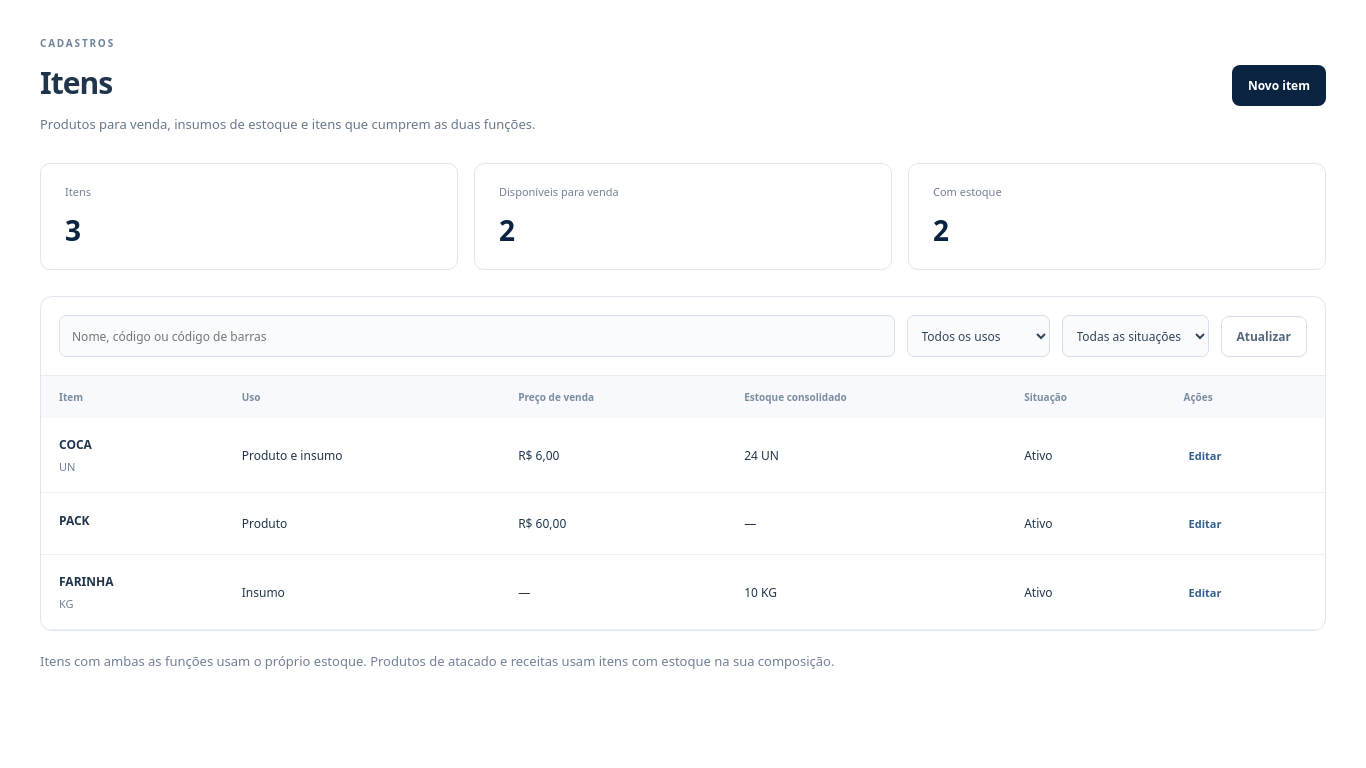
Test: shows one entry for a combined item and filters the three uses
Expected: the text "COCA" is shown, [59, 436, 92, 453]
Expected: the text "24 UN" is shown, [726, 418, 1006, 493]
Select "Produto e insumo" in the dropdown named "Filtrar uso do item": (978, 336) [906, 315, 1050, 357]
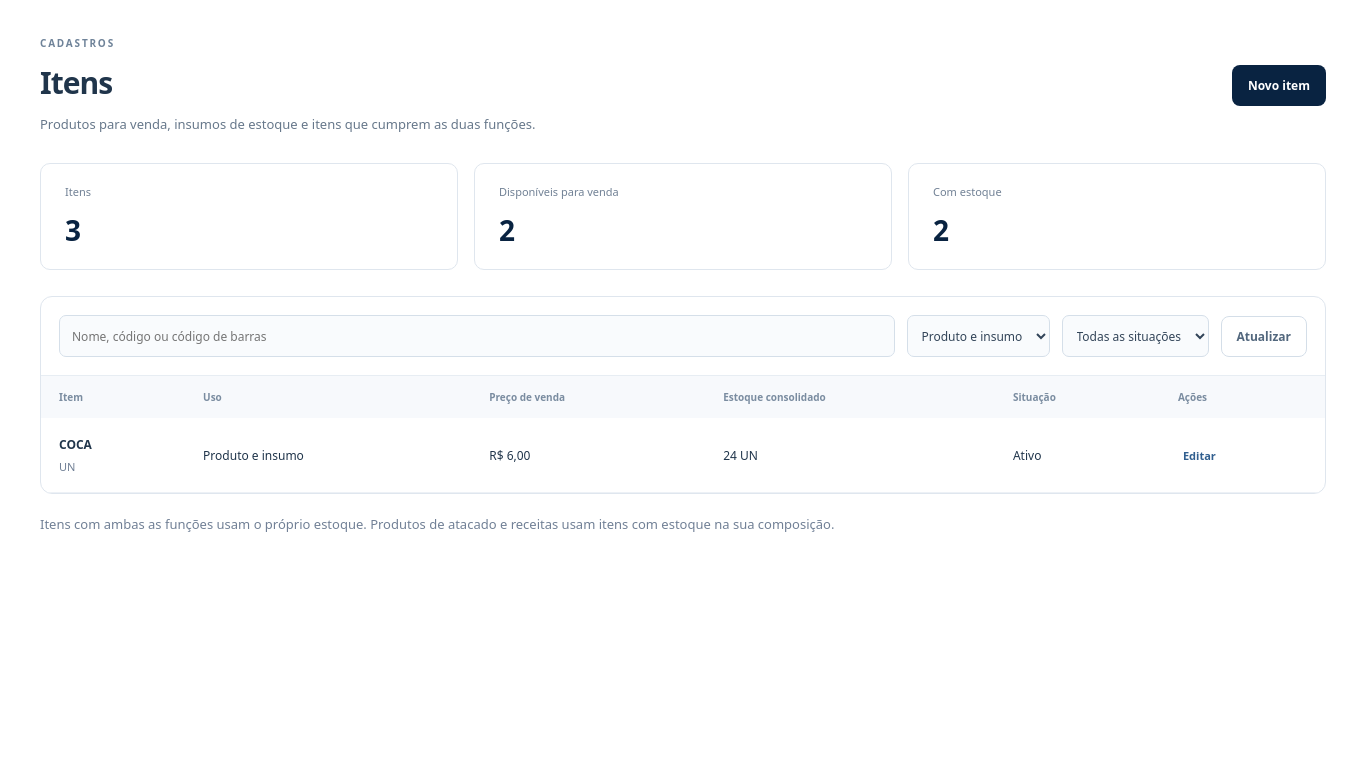
Expected: the text "COCA" is shown, [59, 436, 92, 453]
Expected: the text "PACK" is gone
Select "Apenas insumo" in the dropdown named "Filtrar uso do item": (978, 336) [906, 315, 1050, 357]
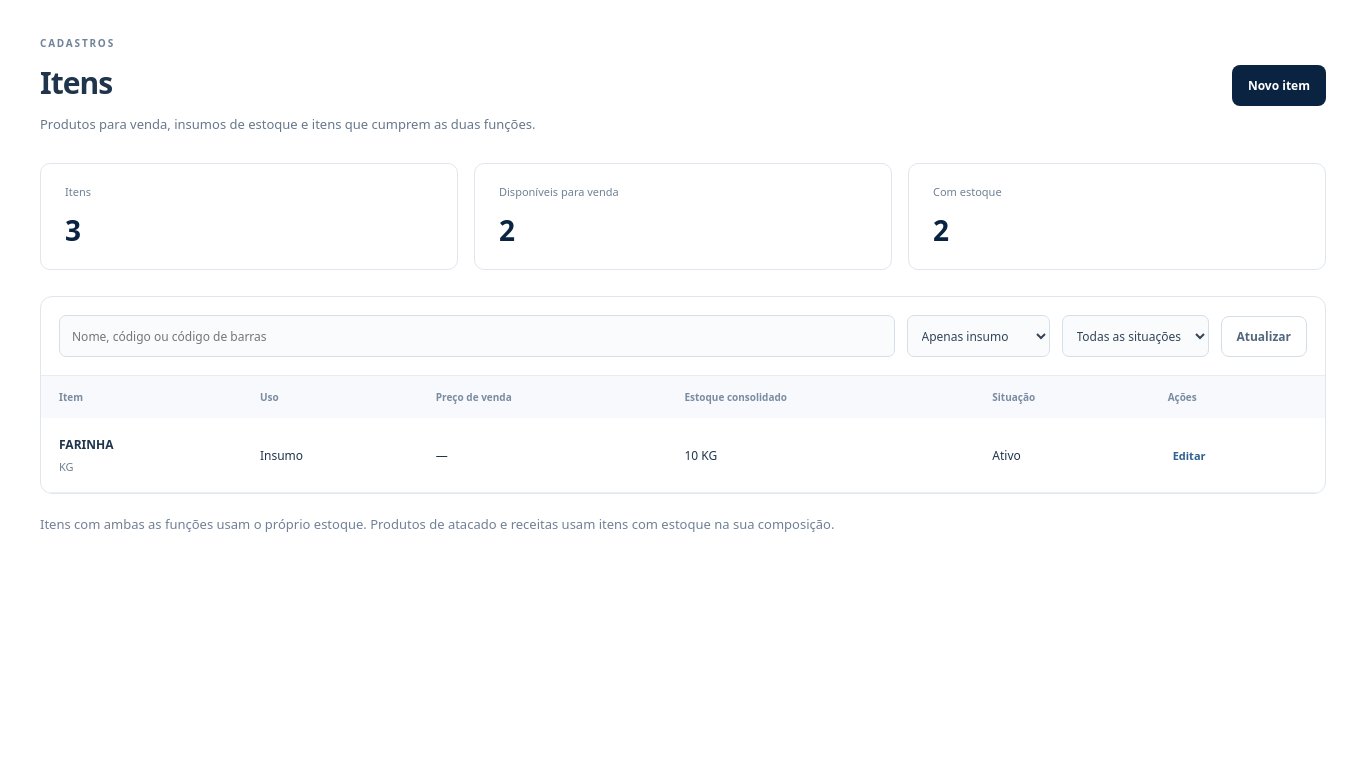
Expected: the text "FARINHA" is shown, [59, 436, 113, 453]
Expected: the text "COCA" is gone
